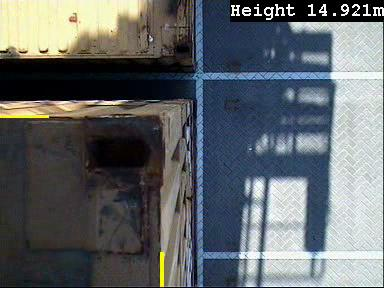groundmarker_2: (193, 50, 236, 105), (193, 228, 236, 283)
